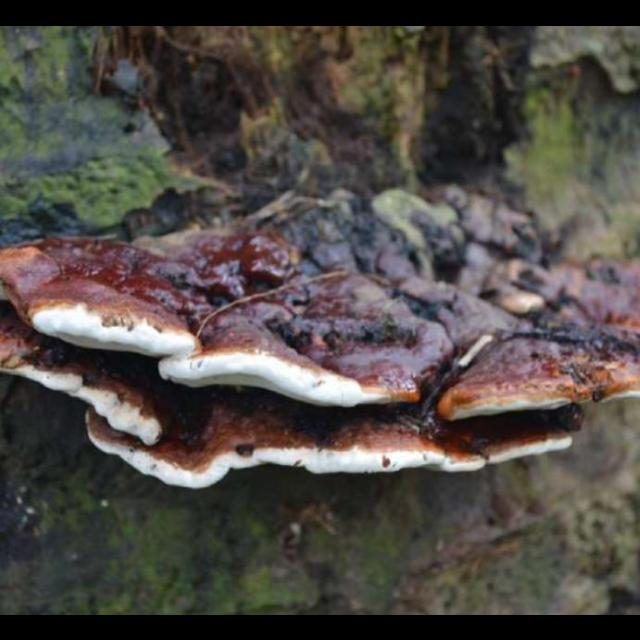ganoderma: (1, 204, 640, 492)
